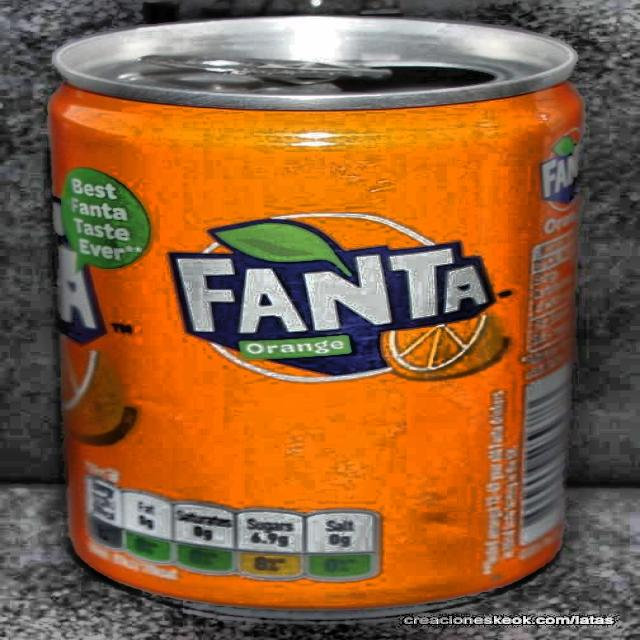Cans: (26, 0, 628, 632)
